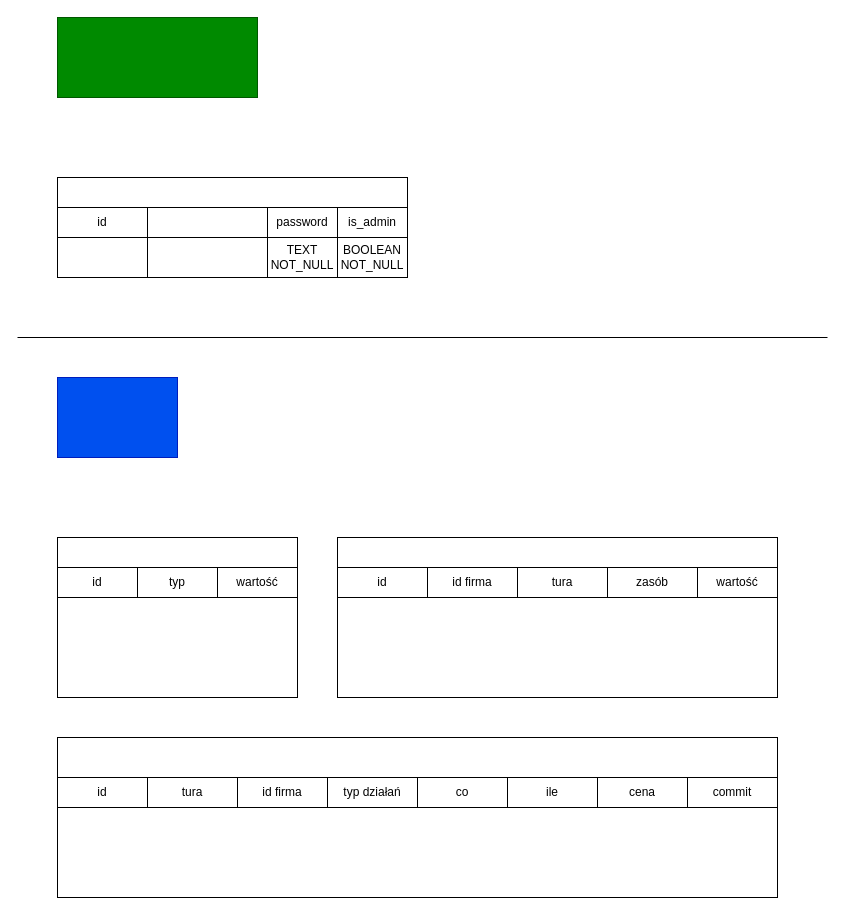
This 846x915 diagram has some shape labels left out. Each missing label, with the centre of its shape:
"Do ogarnięcia" belongs at point 117,417.
"Konfiguracja" belongs at point 177,552.
"login" belongs at point 207,222.
"Magazyn" belongs at point 557,552.
"SERIAL PRIMARY_KEY" belongs at point 102,257.
"Tabela procesowa" belongs at point 417,757.
"Users" belongs at point 232,192.
"VARCHAR(50) UNIQUE NOT_NULL" belongs at point 207,257.
"Zaimplementowane" belongs at point 157,57.
